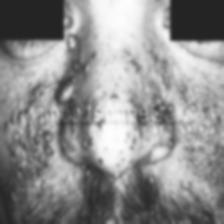Unclassified: (54, 41, 170, 102), (178, 77, 224, 196), (52, 126, 172, 170), (0, 84, 44, 198)
